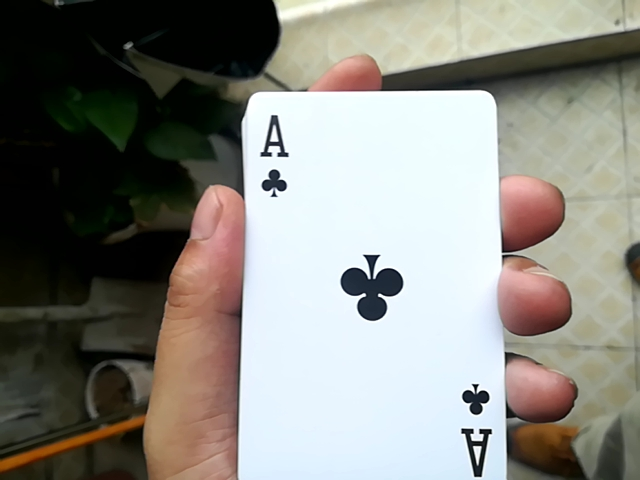mh a: (231, 87, 496, 479)
